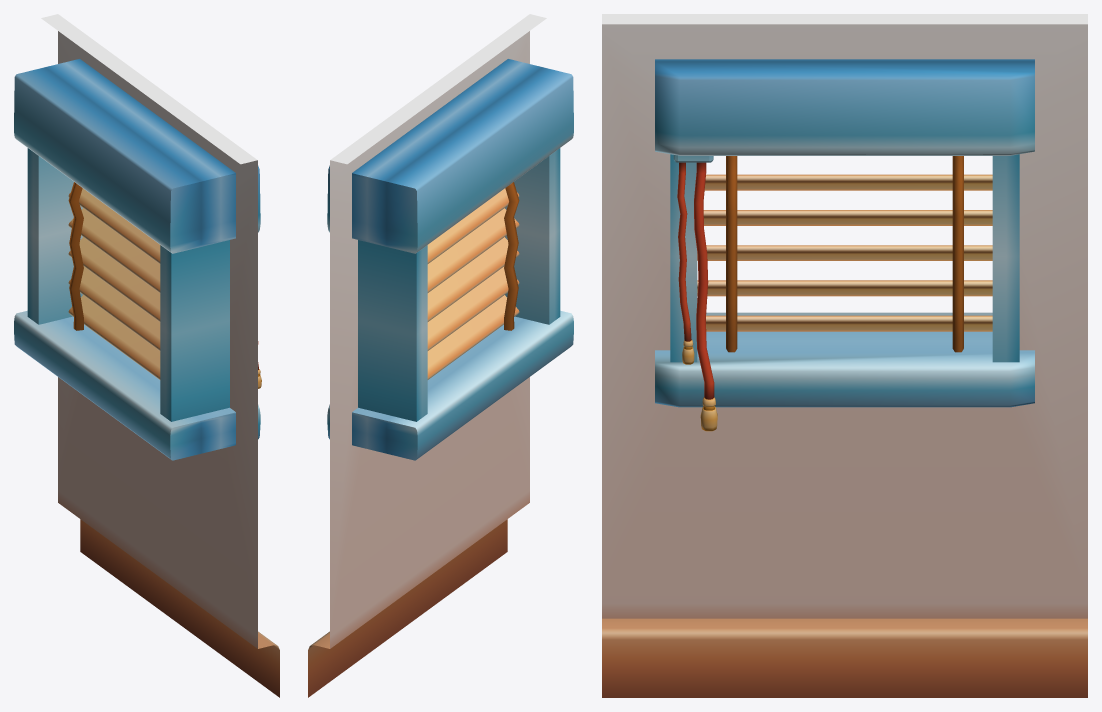
Rendered from WhiteWall_Luxaflex_M.fbx.
The picture shows the model from 3 angles, left to right: view 1: azimuth 30°, elevation 25°; view 2: azimuth 150°, elevation 25°; view 3: azimuth 270°, elevation 25°; orthographic projection. The views are drawn at different scales.
Parts seen in each view (by area): view 1: WhiteWall_Luxaflex; view 2: WhiteWall_Luxaflex; view 3: WhiteWall_Luxaflex.
Part boxes in pixels (box(x1,y1,x2,y2)): WhiteWall_Luxaflex: box(14, 14, 279, 697); WhiteWall_Luxaflex: box(308, 14, 573, 697); WhiteWall_Luxaflex: box(602, 14, 1087, 697).
Size of the model in its own units: 2 by 3 by 0.6243.
